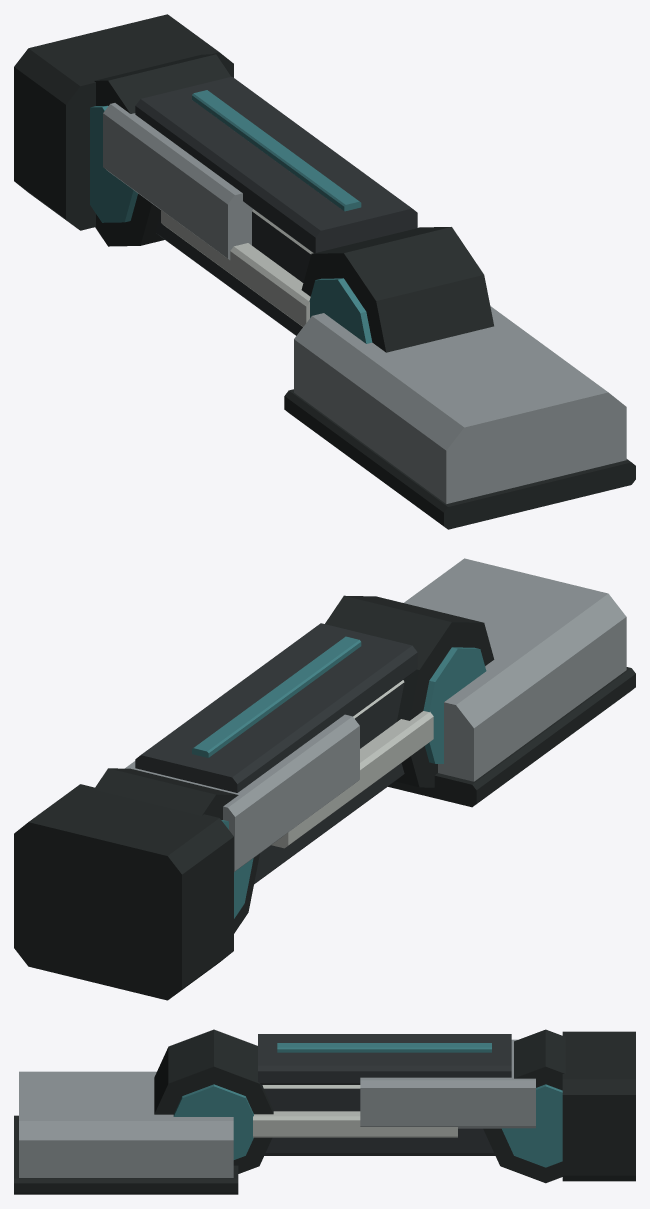
File: BionicLeg.gltf
3 views of the same model, one above another, from view 1: azimuth 30°, elevation 25°; view 2: azimuth 150°, elevation 25°; view 3: azimuth 270°, elevation 25° (orthographic). The views are drawn at different scales.
Parts seen in each view (by area): view 1: BionicLeg; view 2: BionicLeg; view 3: BionicLeg.
Part boxes in pixels (x1,y1,x2,y2): BionicLeg: (14,14,635,529); BionicLeg: (14,558,635,1000); BionicLeg: (14,1029,635,1194).
Size of the model in its own units: 0.16 by 0.135 by 0.6375.
